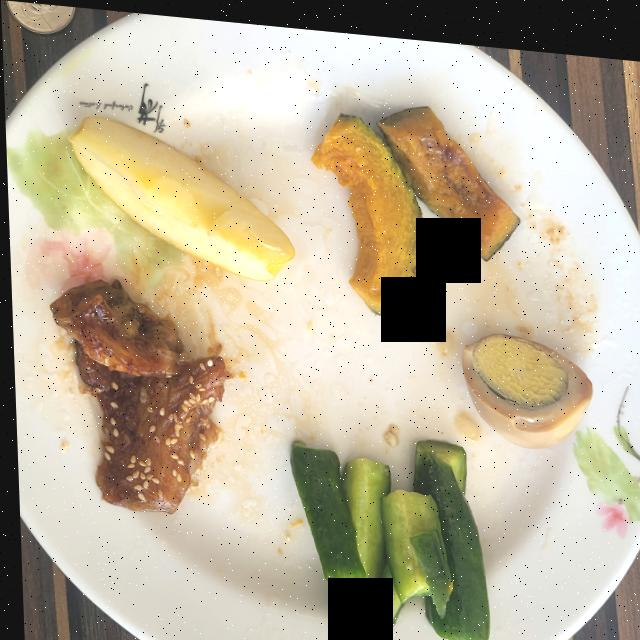Kabayaki sea bream fillet: (47, 278, 224, 510)
apple -sliced-: (67, 115, 291, 276)
coin: (5, 0, 74, 33)
cucumber: (288, 432, 485, 640)
pumpkin: (311, 98, 517, 310)
soy egg: (459, 324, 589, 438)
